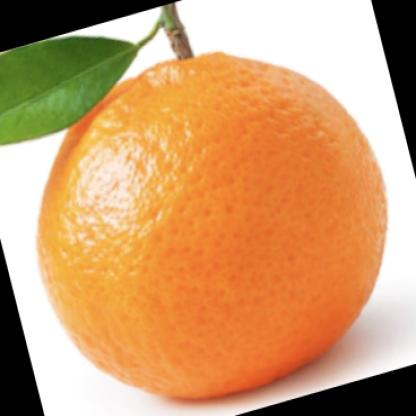fresh: (39, 53, 386, 398)
